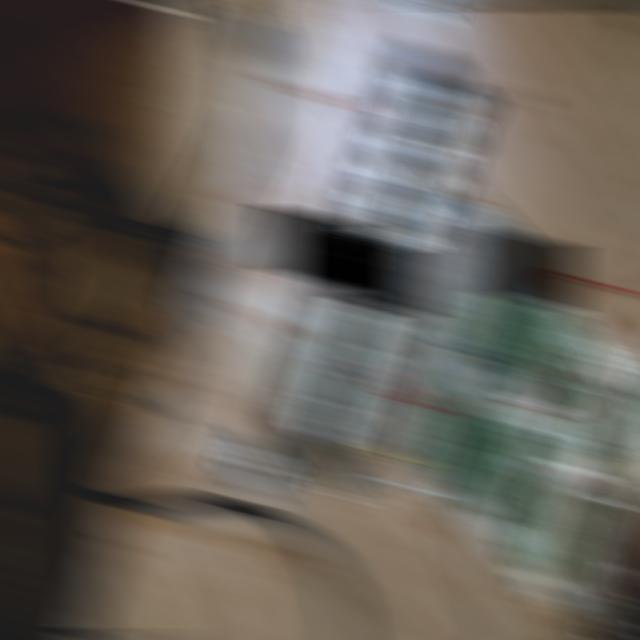Phillips_Block: (263, 37, 498, 488)
Terminal_1: (521, 480, 594, 582), (558, 375, 628, 474)
Terminal_2: (472, 428, 544, 525), (424, 376, 495, 471), (492, 282, 562, 378), (449, 403, 519, 498), (514, 309, 584, 403)
